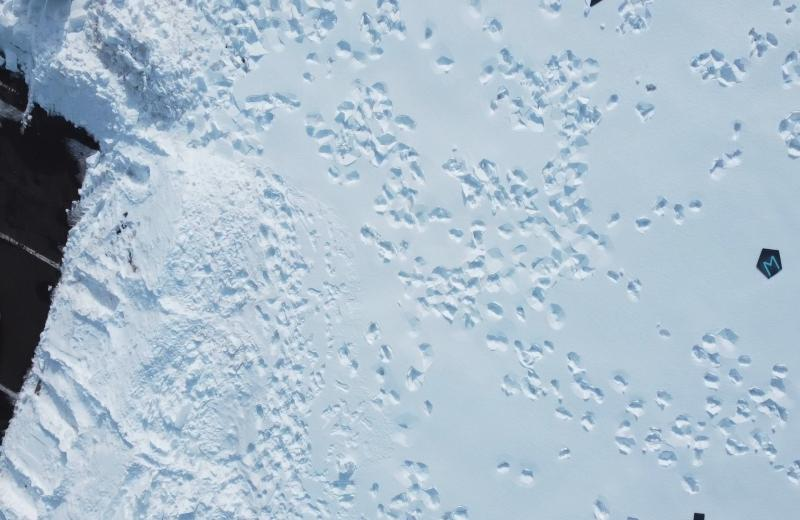Pentagon: (757, 246, 783, 279)
